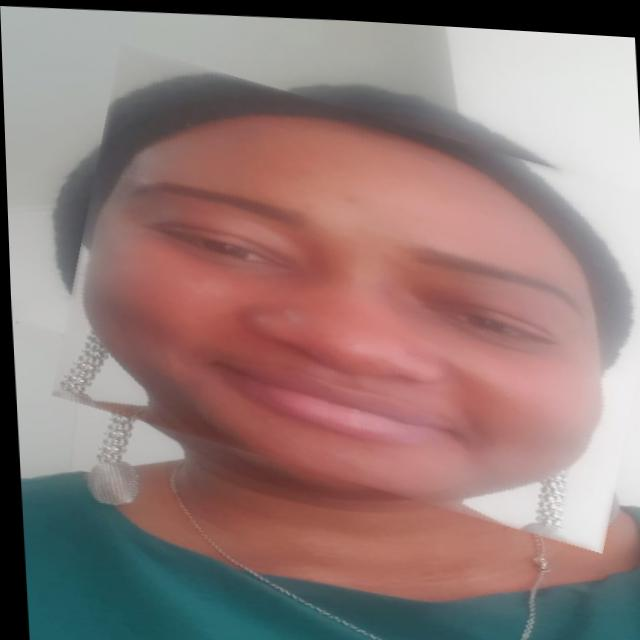happy: (51, 60, 640, 526)
